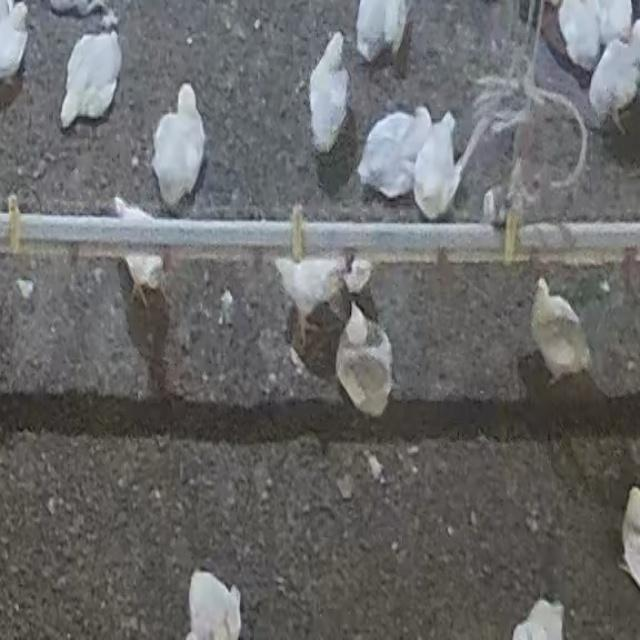chicken: (412, 110, 477, 220), (59, 17, 121, 128), (531, 277, 594, 384), (336, 301, 394, 417), (357, 106, 428, 200), (274, 257, 344, 351), (108, 197, 165, 311), (153, 79, 202, 203), (590, 20, 640, 136), (307, 32, 349, 154), (186, 569, 242, 640), (356, 0, 409, 68), (556, 0, 602, 73), (1, 2, 31, 84), (512, 597, 566, 640)
